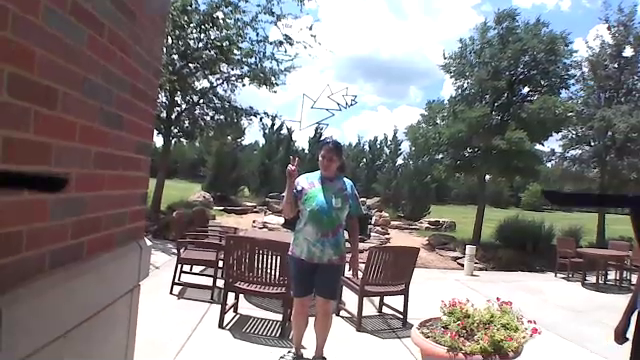peace: (280, 151, 306, 185)
